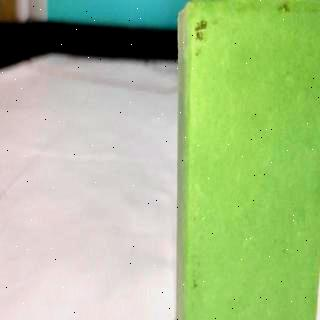greenbox: (174, 0, 320, 320)
